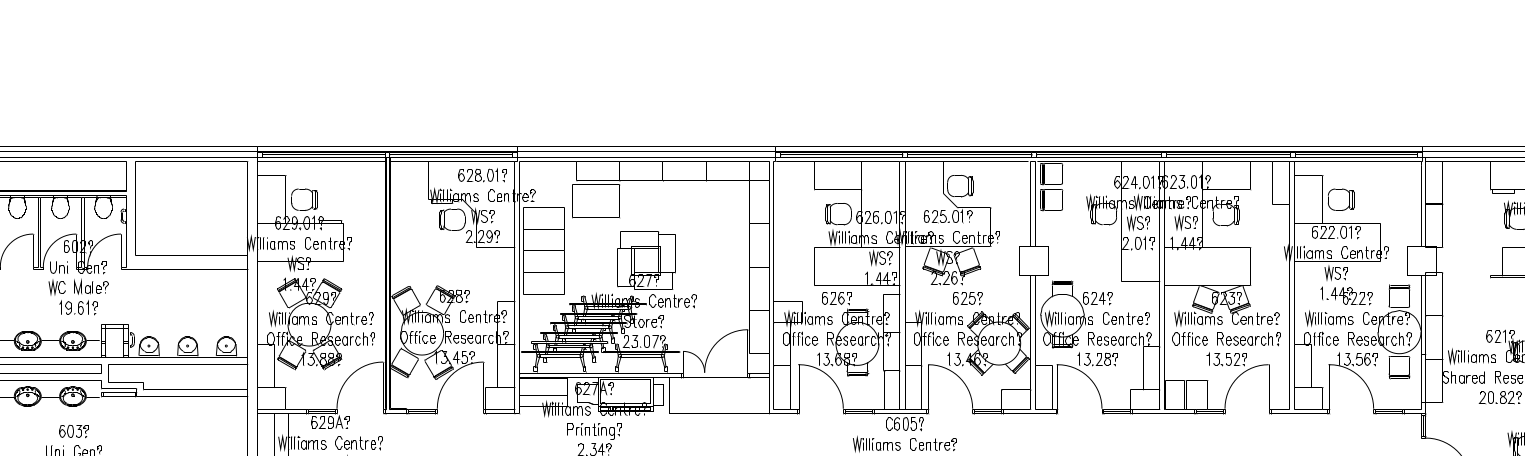door: (680, 330, 748, 381), (1324, 359, 1375, 417), (1223, 361, 1274, 419), (1053, 361, 1104, 419), (925, 363, 976, 421), (794, 360, 845, 418), (435, 360, 486, 418), (334, 358, 385, 416), (41, 228, 80, 280), (86, 225, 125, 277), (1, 222, 39, 274)
